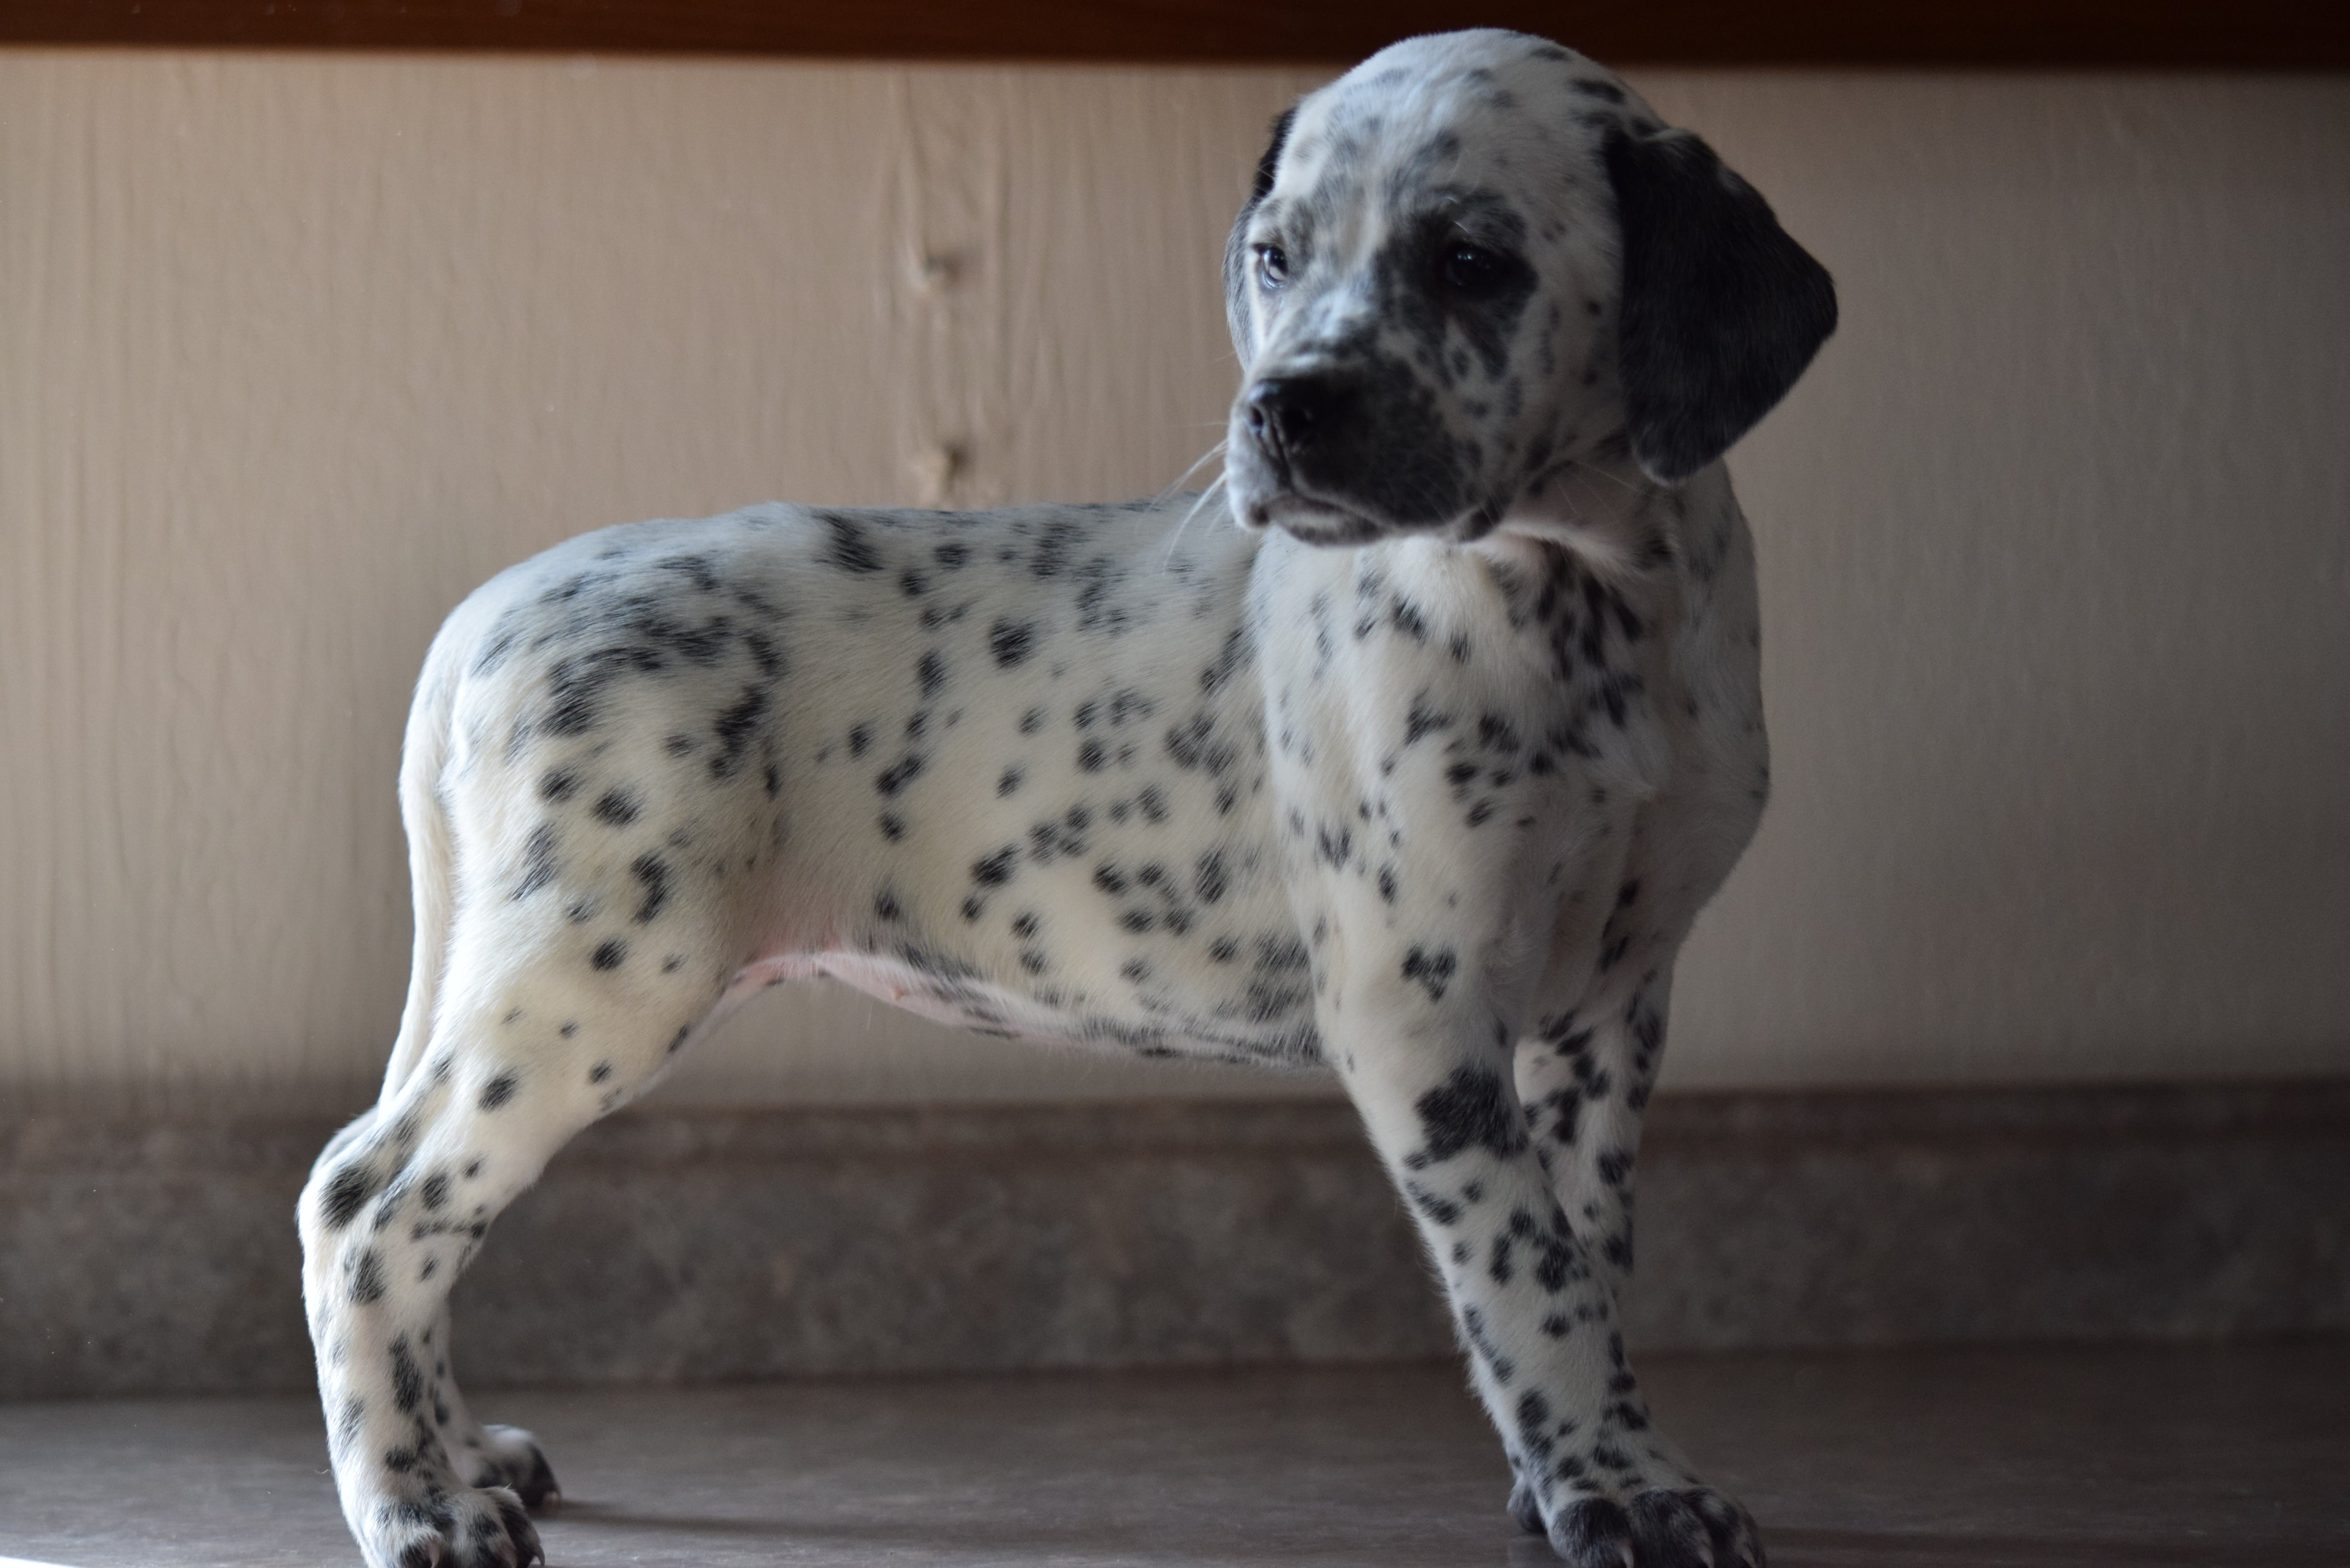dog: (280, 23, 1834, 1568)
